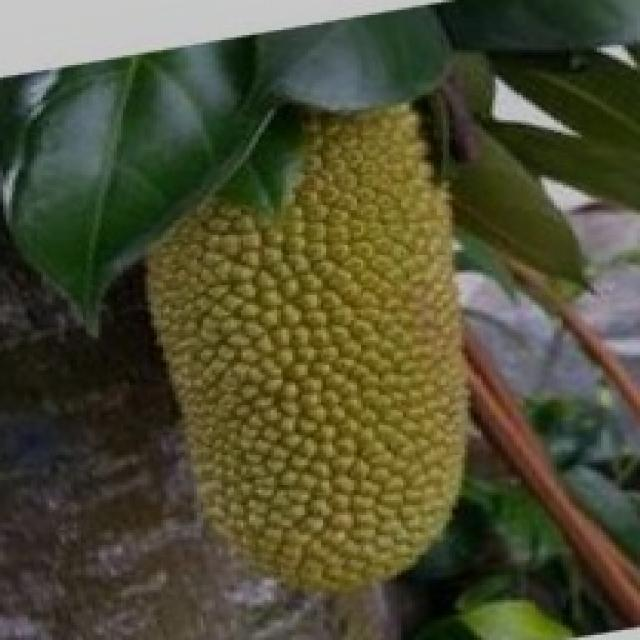Fruit: (99, 65, 532, 477)
